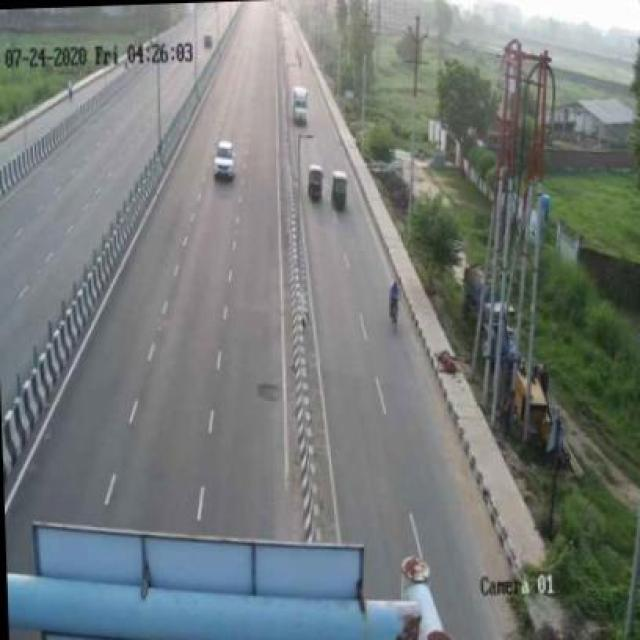car: (210, 135, 238, 183), (289, 78, 312, 130)
